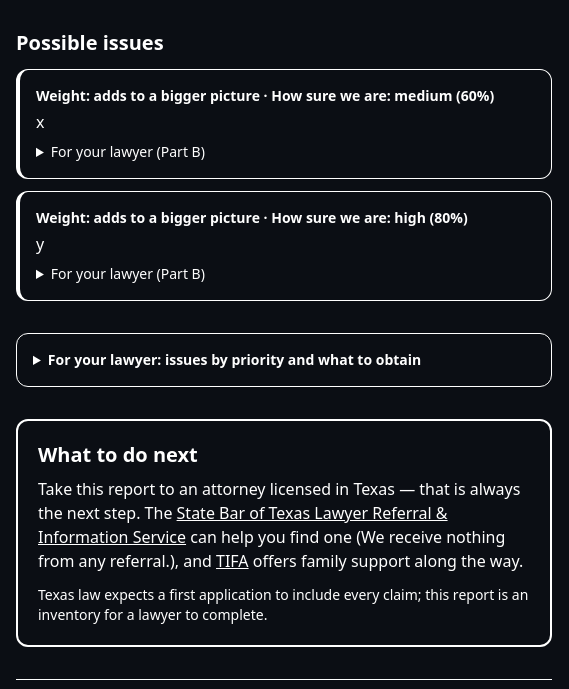
Test: report — the counsel section (prompt set v2) › ranks issues the way a lawyer would and lists what to obtain, folding duplicate asks
(page scrolled)
Click the heading "For your lawyer: issues by priority and what to obtain".
click(234, 360)  # box top-left (48, 350), bottom-right (421, 369)
(page scrolled)
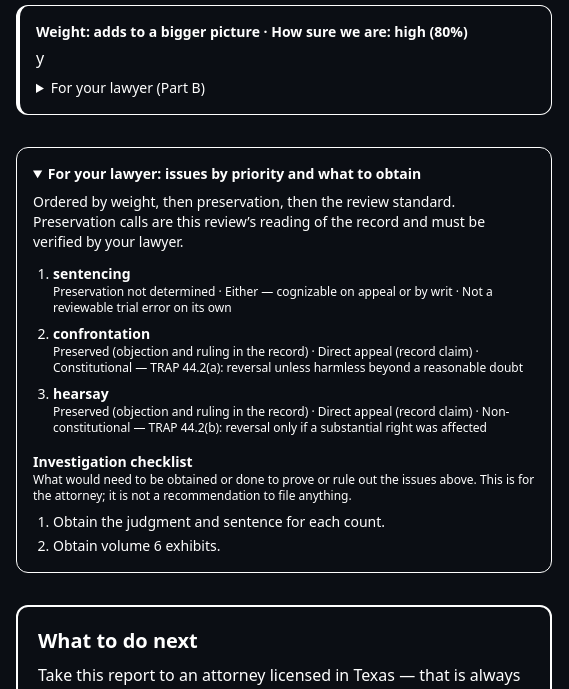
Expected: the list item that starts with "sentencing" is shown, top-left (53, 264), bottom-right (130, 283)
Expected: the list item that starts with "confrontation" is shown, top-left (53, 324), bottom-right (150, 343)
Expected: the list item that starts with "hearsay" is shown, top-left (53, 384), bottom-right (109, 403)
